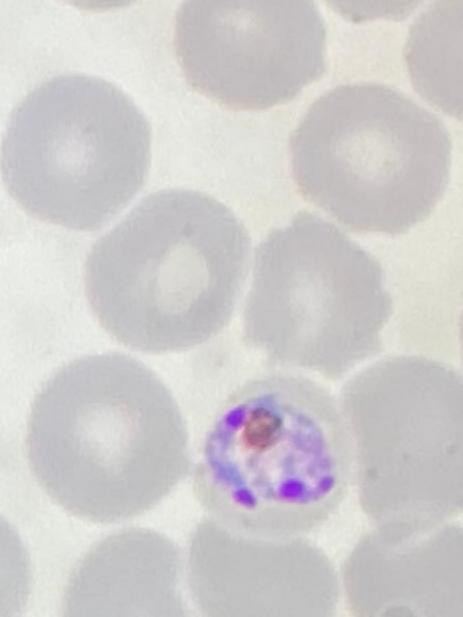Infected: (192, 371, 351, 537)
Uninfected: (85, 186, 246, 360), (28, 357, 185, 522), (0, 74, 153, 235), (288, 79, 447, 233), (252, 211, 392, 371), (350, 351, 463, 533), (177, 0, 326, 113), (185, 511, 337, 617)
